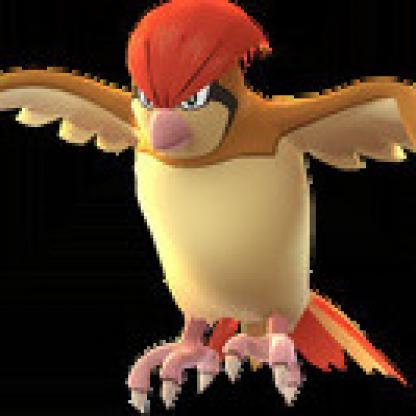Pidgeot: (1, 1, 414, 414)
